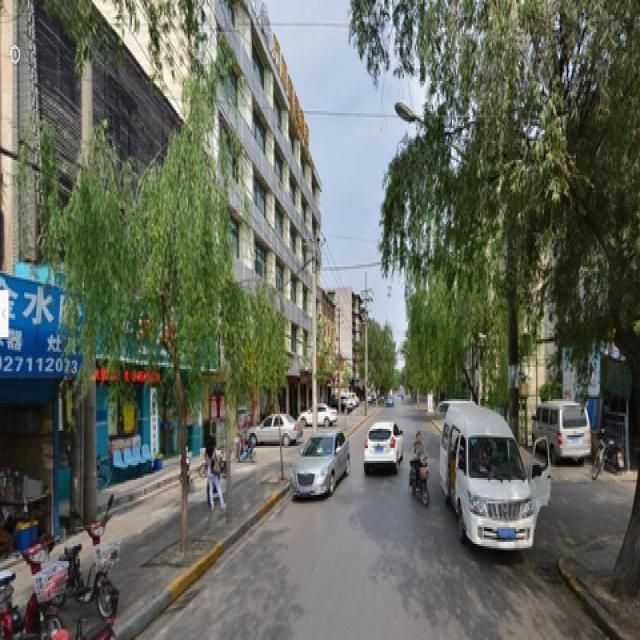plat: (49, 107, 274, 527)
